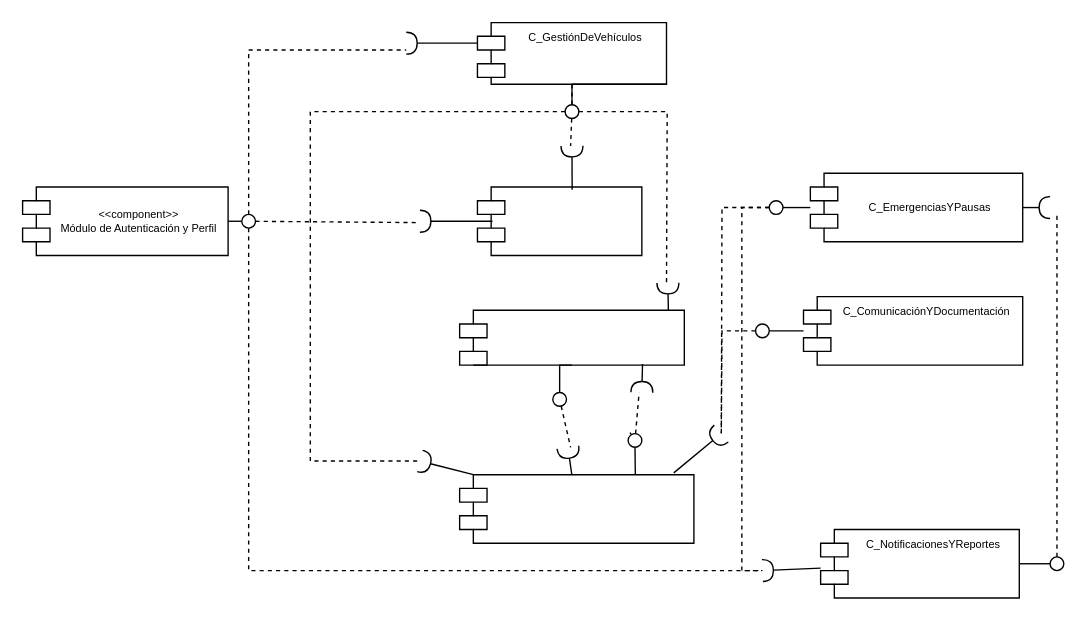
This 1086x621 diagram has some shape labels left out. The shapes that lost their labels are listed below. From the top down, each one's centre as x and y in pixels, then its label:
At [559,221]: "C_GestiónIngresosNFC".
At [571,337]: "C_HistorialDeVehículos".
At [576,508]: "C_Agendamiento".
